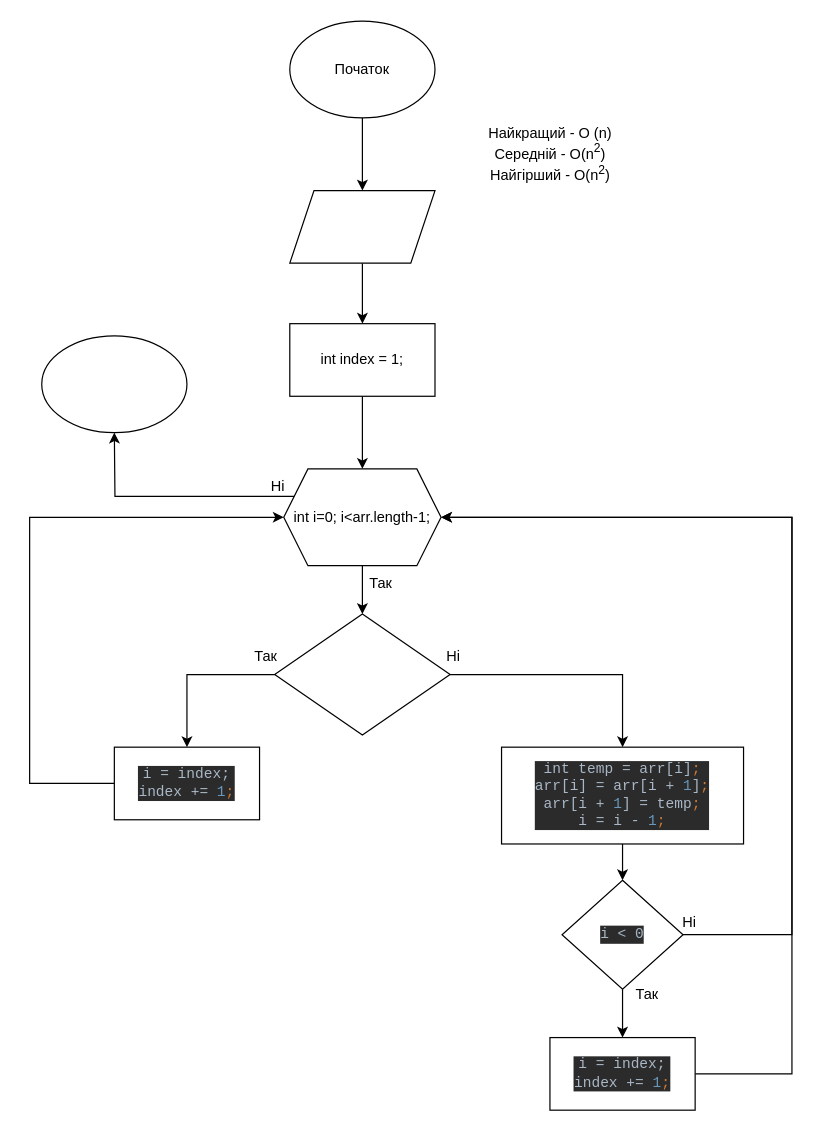
The diagram is 823 pixels wide and 1131 high, and some of its shapes have lost their labels. Each missing label, with the box of its shape:
arr[i] <= arr[i + 1]: (273, 613, 450, 735)
Вводимо: int [] arr;: (289, 189, 435, 263)
Кінець: (41, 335, 187, 433)
